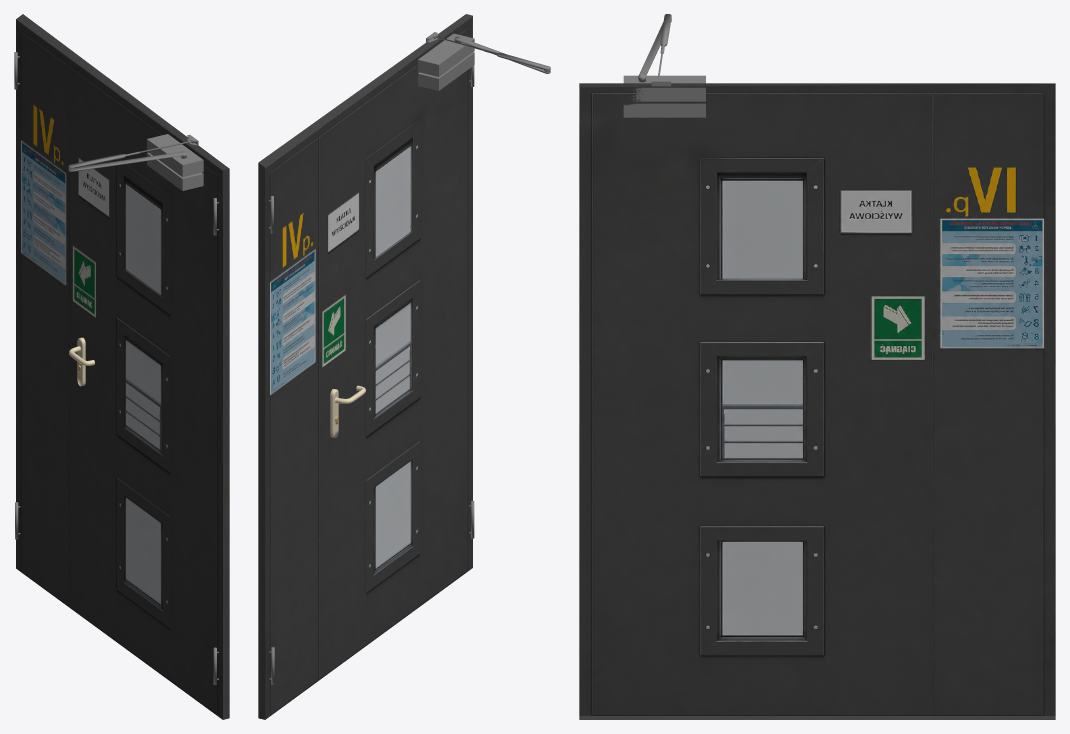
File: staircase_door.fbx
The picture shows the model from 3 angles, left to right: view 1: azimuth 30°, elevation 25°; view 2: azimuth 150°, elevation 25°; view 3: azimuth 270°, elevation 25°; orthographic projection. The views are drawn at different scales.
Parts seen in each view (by area): view 1: stair door 1; view 2: stair door 1; view 3: stair door 1.
Part boxes in pixels (<box>): stair door 1: <box>14,14,229,719</box>; stair door 1: <box>258,14,550,719</box>; stair door 1: <box>579,14,1055,719</box>.
Bounding box in the file's own units: 49.05 × 213 × 144.
4 materials, 1 textured.
